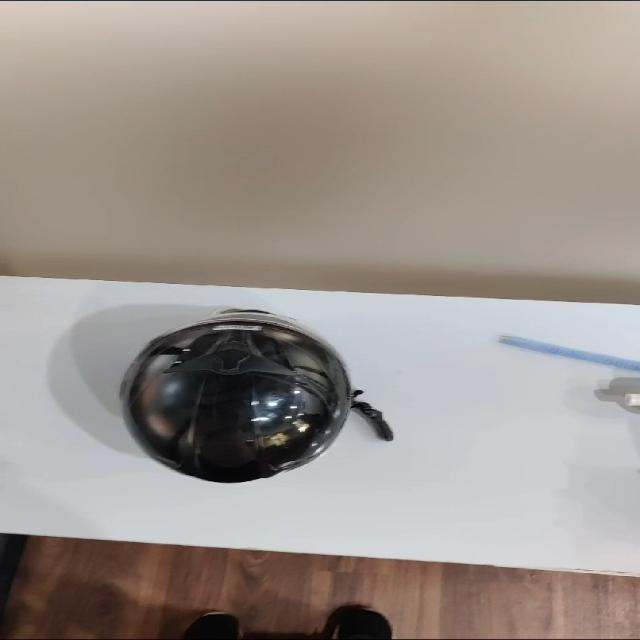helmet: (103, 303, 360, 495)
